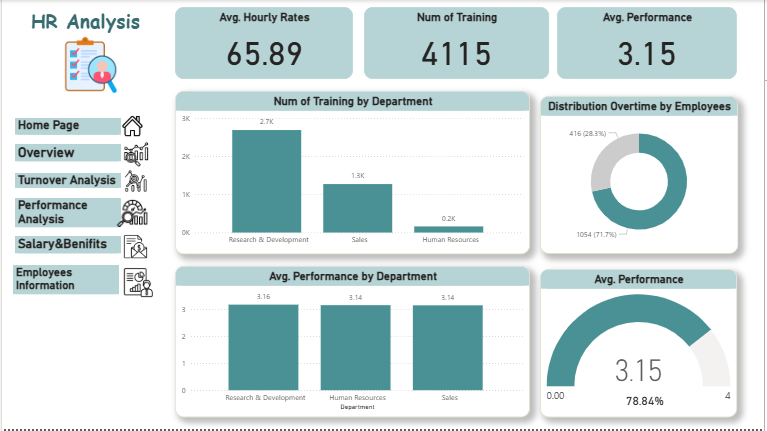

What the dashboard file says about the page in this screenshot:
{"tool":"powerbi","page":{"name":"Performance Analysis","canvas":[1280,720],"ordinal":3},"visuals":[{"type":"card","title":"Avg. Performance","fields":{"Values":["Project-DEPI.Average Performance Rating"]},"box":[932.3,11.8,302.4,120.9],"z":0},{"type":"textbox","title":"Home Page","box":[21.9,198.2,178.1,28.6],"z":0,"group":"g1"},{"type":"image","box":[196.6,445.1,65.5,58.8],"z":0,"group":"g2"},{"type":"group","id":"g1","title":"Group 1","box":[18.5,189.8,250.3,307.4],"z":1000,"group":"g2"},{"type":"textbox","title":"Overview","box":[21.9,241.9,178.1,28.6],"z":1000,"group":"g1"},{"type":"clusteredColumnChart","title":"Avg. Performance by Department","fields":{"Category":["Project-DEPI.Department"],"Y":["Project-DEPI.Average Performance Rating"]},"box":[290.6,446.8,596.3,253.6],"z":1000},{"type":"clusteredColumnChart","title":"Num of Training by Department","fields":{"Category":["Project-DEPI.Department"],"Y":["Sum(Project-DEPI.TrainingTimesLastYear)"]},"box":[290.6,152.9,596.3,273.8],"z":2000},{"type":"textbox","title":"Turnover Analysis","box":[21.9,290.6,178.1,25.2],"z":2000,"group":"g1"},{"type":"card","title":"Num of Training","fields":{"Values":["Sum(Project-DEPI.TrainingTimesLastYear)"]},"box":[608.1,11.8,310.8,120.9],"z":3000},{"type":"textbox","title":"Performance Analysis","box":[21.9,332.6,178.1,48.7],"z":3000,"group":"g1"},{"type":"card","title":"Avg. Hourly Rates","fields":{"Values":["Avg(Project-DEPI.HourlyRate)"]},"box":[290.6,11.8,299,120.9],"z":4000},{"type":"textbox","title":"Salary&Benifits","box":[21.9,396.4,178.1,30.2],"z":4000,"group":"g1"},{"type":"donutChart","title":"Distribution Overtime by Employees","fields":{"Category":["Project-DEPI.OverTime"],"Y":["CountNonNull(Project-DEPI.OverTime)"]},"box":[903.7,161.3,332.6,265.4],"z":5000},{"type":"textbox","title":"Employees Information","box":[18.5,445.1,178.1,52.1],"z":5000,"group":"g1"},{"type":"textbox","title":"HR Analysis","box":[18.5,11.8,243.6,53.8],"z":6000,"group":"g3"},{"type":"group","id":"g2","title":"Group 2","box":[18.5,189.8,250.3,314.1],"z":6000},{"type":"image","box":[183.1,189.8,72.2,43.7],"z":6000,"group":"g1"},{"type":"gauge","title":"Avg. Performance ","fields":{"Y":["Project-DEPI.Average Performance Rating"],"MaxValue":["Project-DEPI.Target"]},"box":[903.7,451.9,330.9,248.6],"z":6000,"group":"g4"},{"type":"group","id":"g3","title":"Group 3","box":[18.5,11.8,243.6,149.5],"z":7000},{"type":"image","box":[60.4,57.3,178.1,104.1],"z":7000,"group":"g3"},{"type":"image","box":[181.4,233.5,87.3,52.1],"z":7000,"group":"g1"},{"type":"card","fields":{"Values":["Project-DEPI.% Avg. Performance"]},"box":[1016.2,650.8,127.7,46.3],"z":7000,"group":"g4"},{"type":"image","box":[191.5,280.5,67.2,47],"z":8000,"group":"g1"},{"type":"group","id":"g4","title":"Group 4","box":[903.7,451.9,330.9,248.6],"z":8000},{"type":"image","box":[179.8,327.5,79,62.2],"z":9000,"group":"g1"},{"type":"image","box":[179.8,389.7,89,48.7],"z":10000,"group":"g1"}]}

Visuals, with their boxes in screenshot pixels (x1, y1, x2, y2), scaled from the page's 1280x720 canvas onto the 767x431 screenshot:
"Avg. Performance" card: x1=559 y1=7 x2=740 y2=79
"Home Page" textbox: x1=13 y1=119 x2=120 y2=136
image: x1=118 y1=266 x2=157 y2=302
"Group 1" group: x1=11 y1=114 x2=161 y2=298
"Overview" textbox: x1=13 y1=145 x2=120 y2=162
"Avg. Performance by Department" clusteredColumnChart: x1=174 y1=267 x2=531 y2=419
"Num of Training by Department" clusteredColumnChart: x1=174 y1=92 x2=531 y2=255
"Turnover Analysis" textbox: x1=13 y1=174 x2=120 y2=189
"Num of Training" card: x1=364 y1=7 x2=551 y2=79
"Performance Analysis" textbox: x1=13 y1=199 x2=120 y2=228
"Avg. Hourly Rates" card: x1=174 y1=7 x2=353 y2=79
"Salary&Benifits" textbox: x1=13 y1=237 x2=120 y2=255
"Distribution Overtime by Employees" donutChart: x1=542 y1=97 x2=741 y2=255
"Employees Information" textbox: x1=11 y1=266 x2=118 y2=298
"HR Analysis" textbox: x1=11 y1=7 x2=157 y2=39
"Group 2" group: x1=11 y1=114 x2=161 y2=302
image: x1=110 y1=114 x2=153 y2=140
"Avg. Performance " gauge: x1=542 y1=271 x2=740 y2=419
"Group 3" group: x1=11 y1=7 x2=157 y2=97
image: x1=36 y1=34 x2=143 y2=97
image: x1=109 y1=140 x2=161 y2=171
card - Project-DEPI.% Avg. Performance: x1=609 y1=390 x2=685 y2=417
image: x1=115 y1=168 x2=155 y2=196
"Group 4" group: x1=542 y1=271 x2=740 y2=419
image: x1=108 y1=196 x2=155 y2=233
image: x1=108 y1=233 x2=161 y2=262
